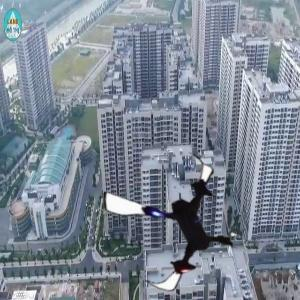drone: (99, 149, 247, 297)
